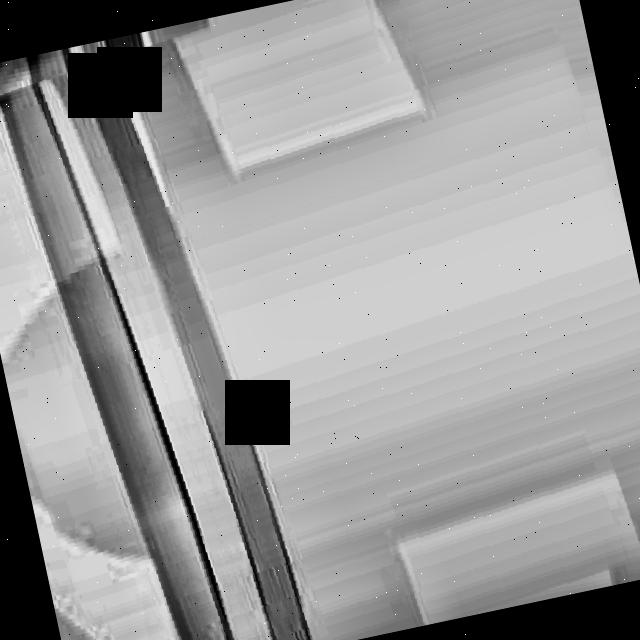bottle: (0, 0, 640, 640)
